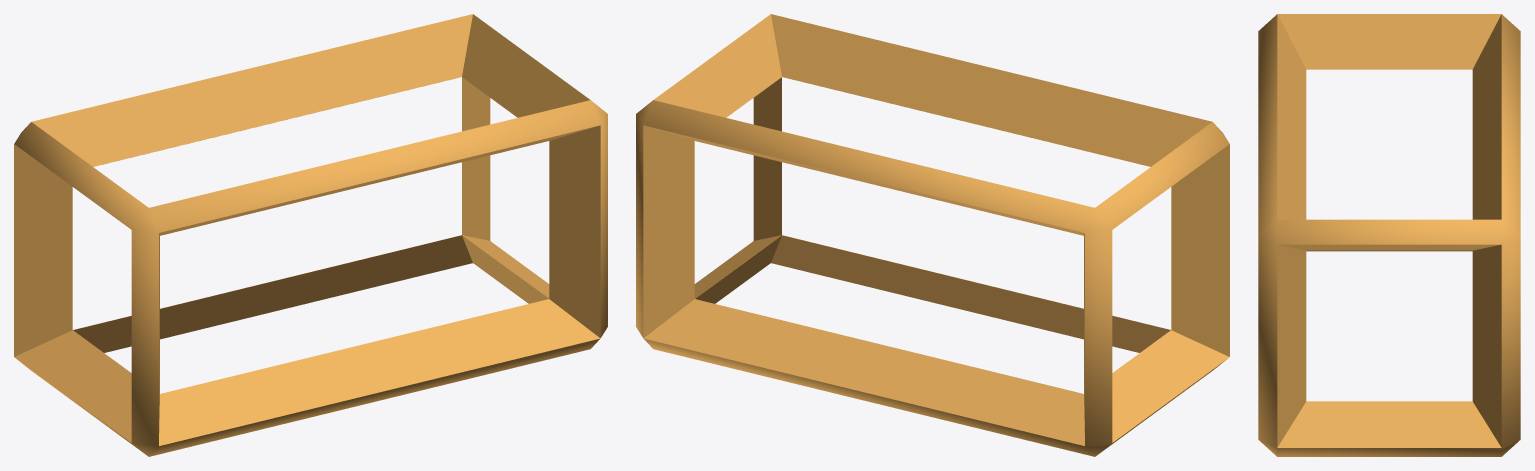
File: CubeMesh_03.fbx
3 renders of one model, left to right at view 1: azimuth 30°, elevation 25°; view 2: azimuth 150°, elevation 25°; view 3: azimuth 270°, elevation 25°, orthographic. The views are drawn at different scales.
Visible parts, largest first — view 1: CubeMesh_03; view 2: CubeMesh_03; view 3: CubeMesh_03.
Part boxes in pixels (x1=…): CubeMesh_03: x1=14, y1=14, x2=607, y2=456; CubeMesh_03: x1=636, y1=14, x2=1229, y2=456; CubeMesh_03: x1=1258, y1=14, x2=1520, y2=456.
Bounding box in the file's own units: 416 × 208 × 208.
